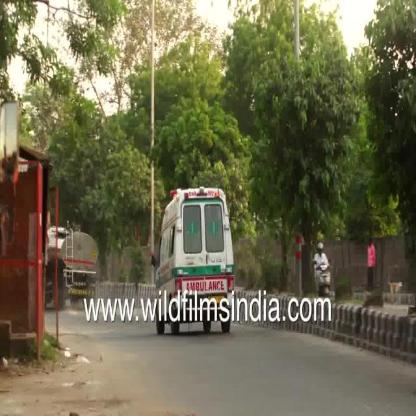priority: (152, 182, 238, 298)
